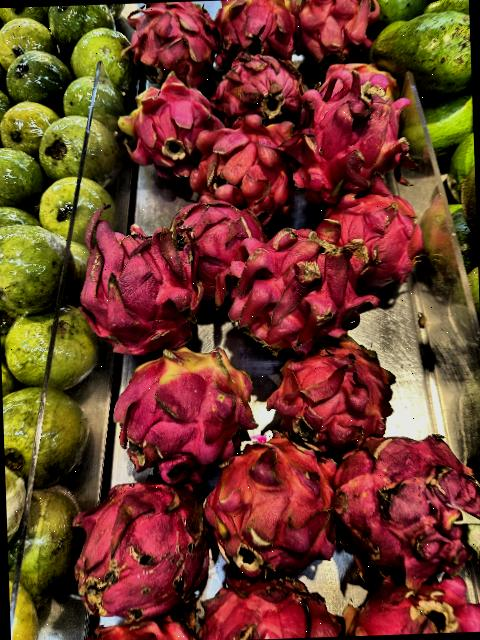buah-naga-belum-matang: (102, 336, 260, 486), (206, 428, 338, 582), (260, 340, 396, 450), (296, 66, 407, 192), (111, 82, 214, 177), (212, 0, 303, 66), (298, 0, 380, 58)
buah-naga-matang: (334, 437, 480, 582), (68, 471, 208, 616), (77, 193, 202, 354), (223, 219, 380, 345), (163, 191, 262, 299), (312, 190, 424, 279), (205, 63, 312, 153), (123, 1, 228, 85), (192, 136, 296, 218)
